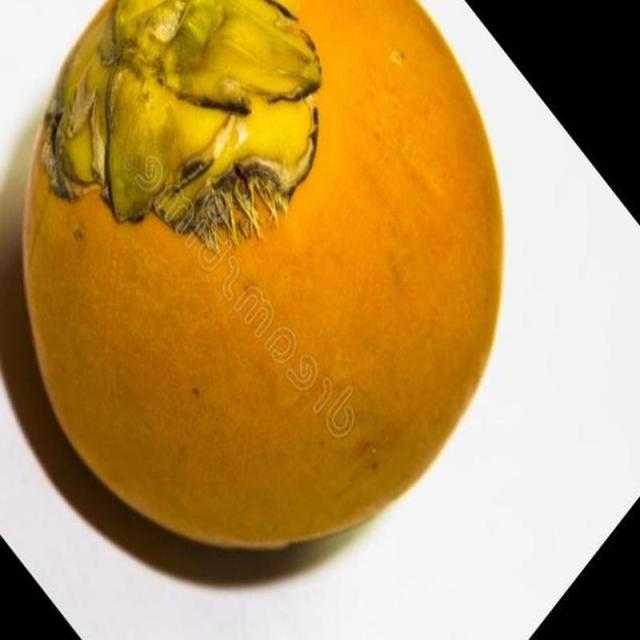good: (25, 0, 502, 545)
